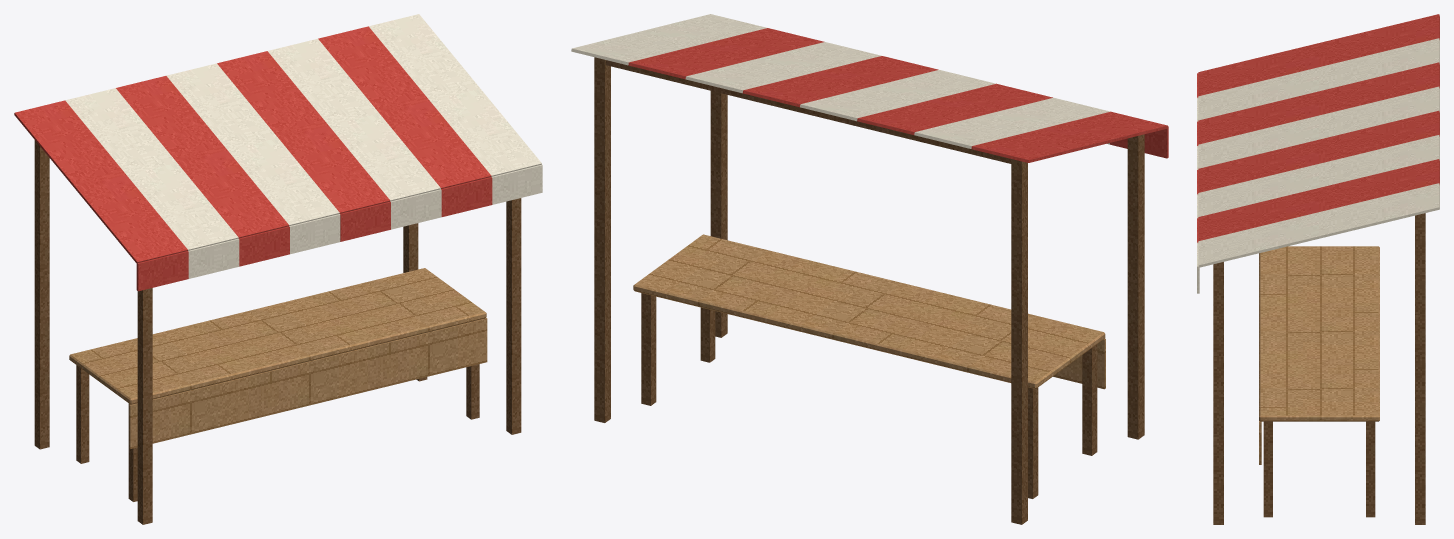
3 renders of one model, left to right at view 1: azimuth 30°, elevation 25°; view 2: azimuth 150°, elevation 25°; view 3: azimuth 270°, elevation 25°, orthographic. The views are drawn at different scales.
Parts seen in each view (by area): view 1: Decor_market_stall_taken; view 2: Decor_market_stall_taken; view 3: Decor_market_stall_taken.
Part boxes in pixels (x1=…): Decor_market_stall_taken: x1=14, y1=14, x2=542, y2=524; Decor_market_stall_taken: x1=571, y1=14, x2=1168, y2=524; Decor_market_stall_taken: x1=1197, y1=14, x2=1439, y2=524.
Bounding box in the file's own units: 3.4 × 2.66 × 1.81.
4 materials, 4 textured.
